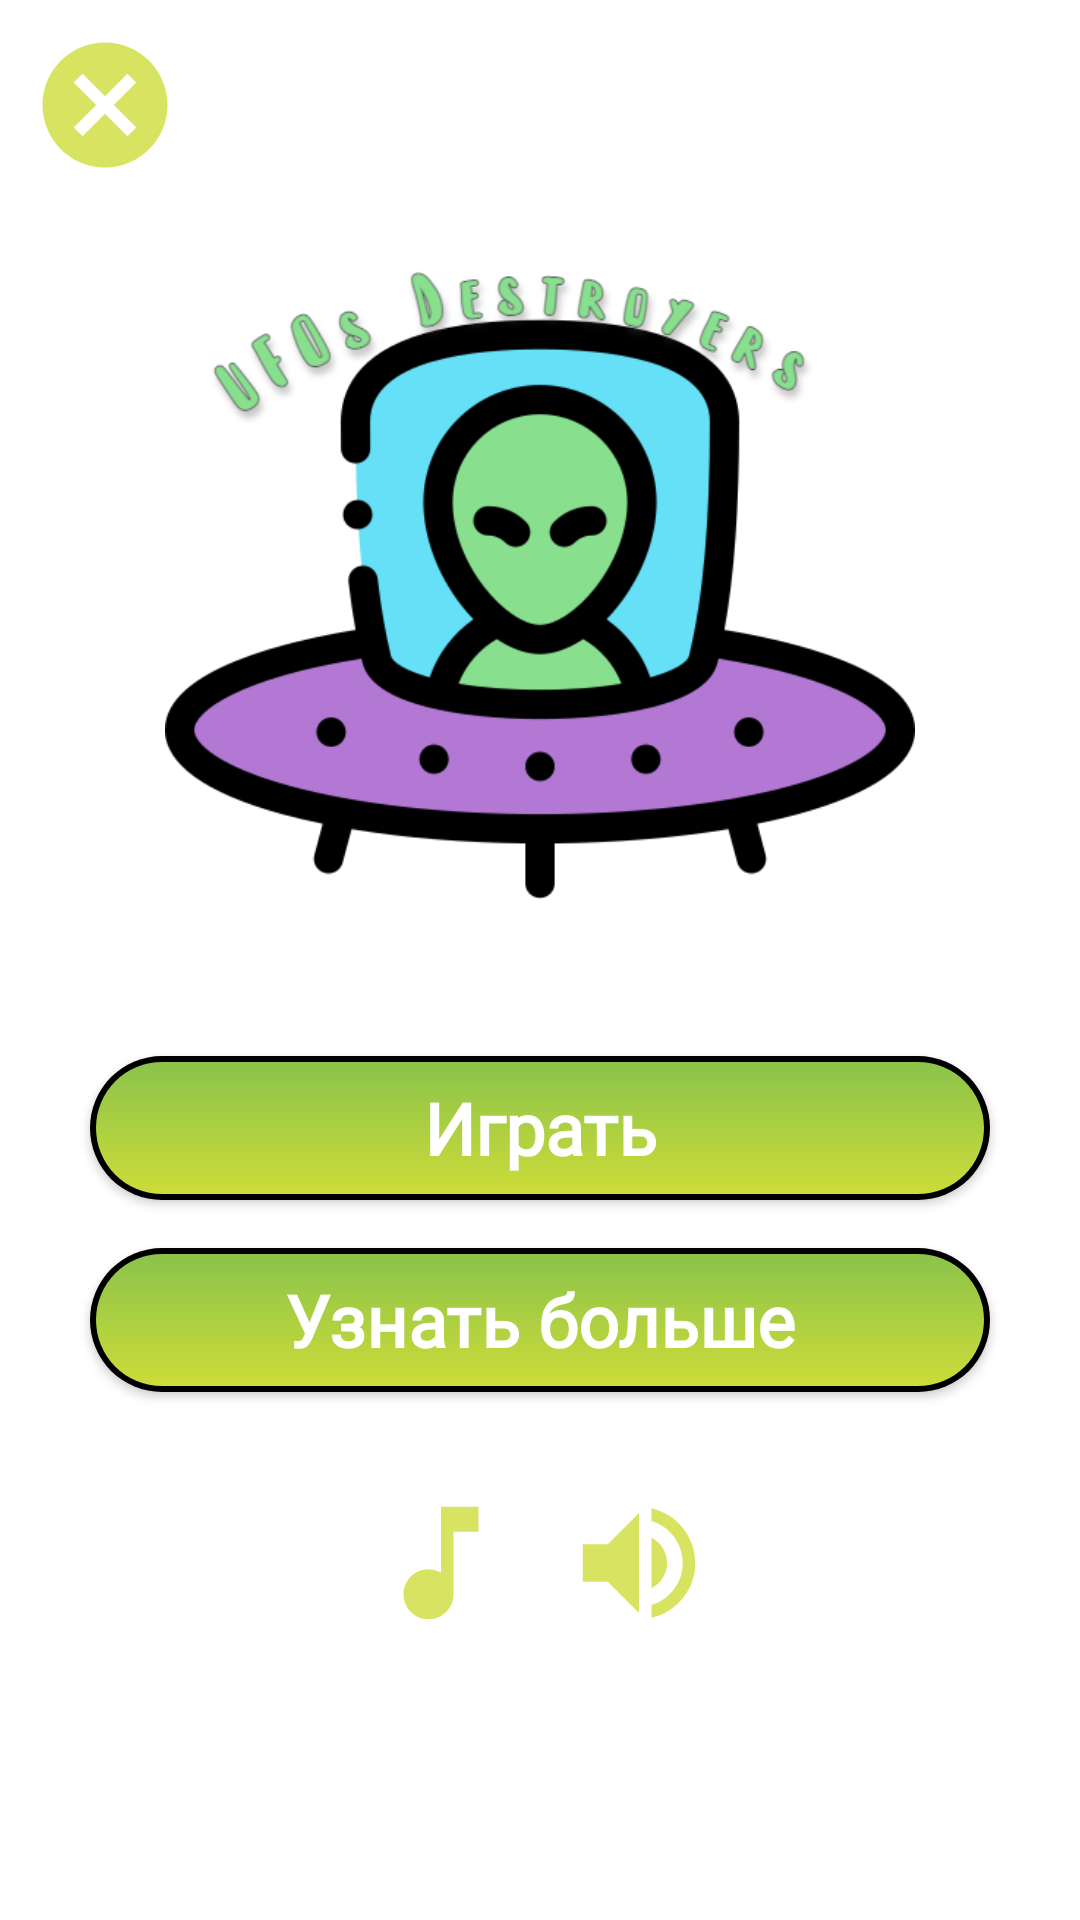

Named icons in this screenshot (1080px×1920px) and their centers, point (x, y):
Выход: point (105, 105)
Звук: point (639, 1563)
Музыка: point (441, 1563)
